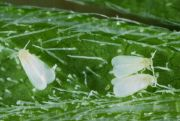whitefly: (12, 42, 57, 93), (111, 51, 156, 78), (112, 75, 158, 97)
